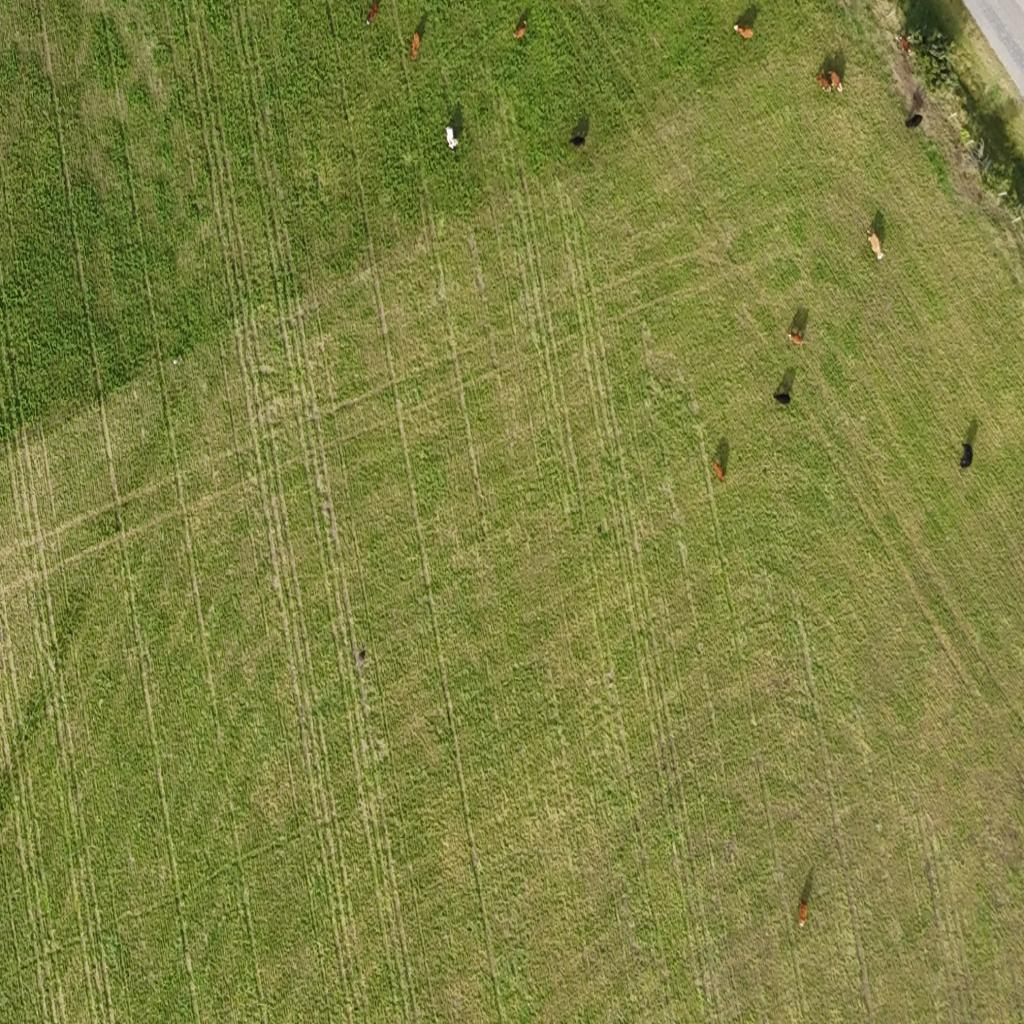cow: (444, 122, 460, 157), (867, 230, 884, 262), (814, 72, 831, 96), (733, 24, 754, 41), (960, 444, 973, 470), (366, 0, 379, 26), (569, 132, 587, 150), (830, 70, 844, 93), (514, 16, 527, 40), (797, 900, 808, 928), (410, 32, 420, 62), (906, 112, 923, 129), (714, 461, 726, 485), (898, 36, 910, 58), (789, 330, 804, 347), (774, 392, 791, 404)
